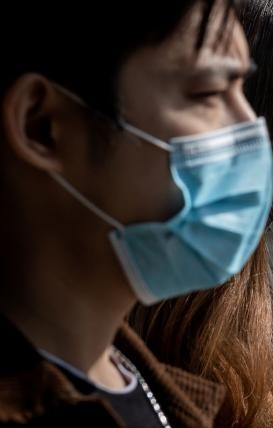with_mask: (84, 10, 273, 297)
